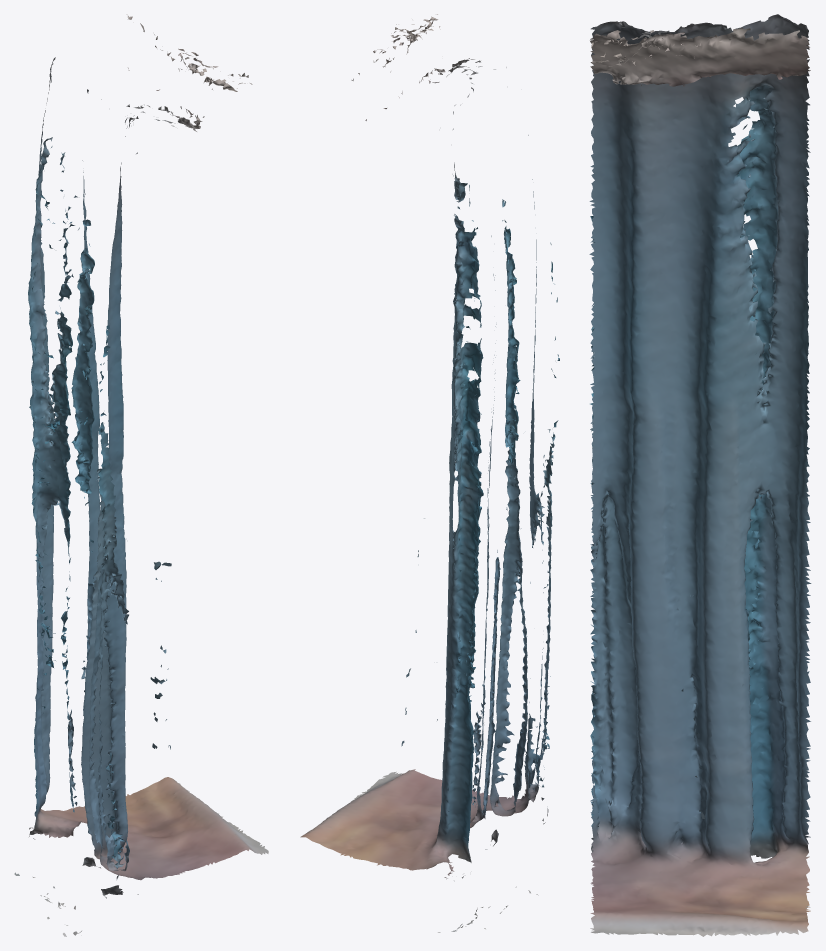
The model's file is apartment-full-5-6a66bee72859.glb.
3 views of the same model, side by side, from view 1: azimuth 30°, elevation 25°; view 2: azimuth 150°, elevation 25°; view 3: azimuth 270°, elevation 25° (orthographic). The views are drawn at different scales.
Size of the model in its own units: 0.444 by 2.02 by 0.423.
